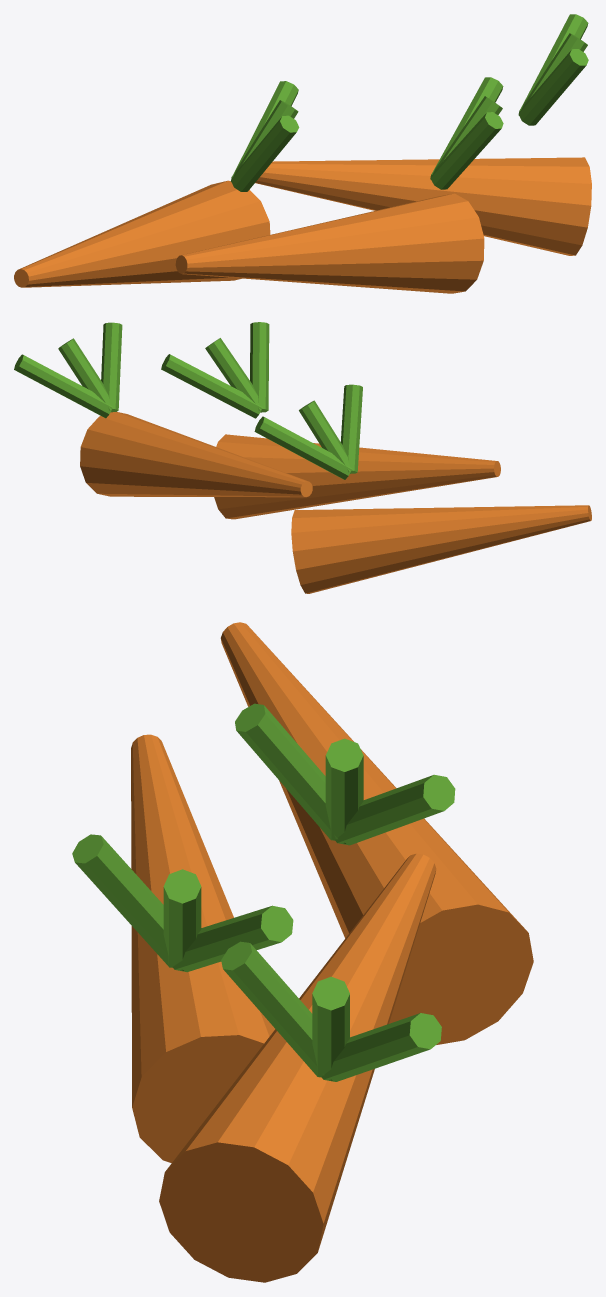
File: item_vegetable.glb
The picture shows the model from 3 angles, top to bottom: view 1: azimuth 30°, elevation 25°; view 2: azimuth 150°, elevation 25°; view 3: azimuth 270°, elevation 25°; orthographic projection. The views are drawn at different scales.
Parts seen in each view (by area): view 1: item_vegetable; view 2: item_vegetable; view 3: item_vegetable.
Boxes of the visible parts, x1,y1,x2,y2 form: item_vegetable: [14, 14, 591, 293]; item_vegetable: [14, 322, 591, 593]; item_vegetable: [72, 622, 533, 1282].
Bounding box in the file's own units: 0.4547 × 0.1397 × 0.1708.
